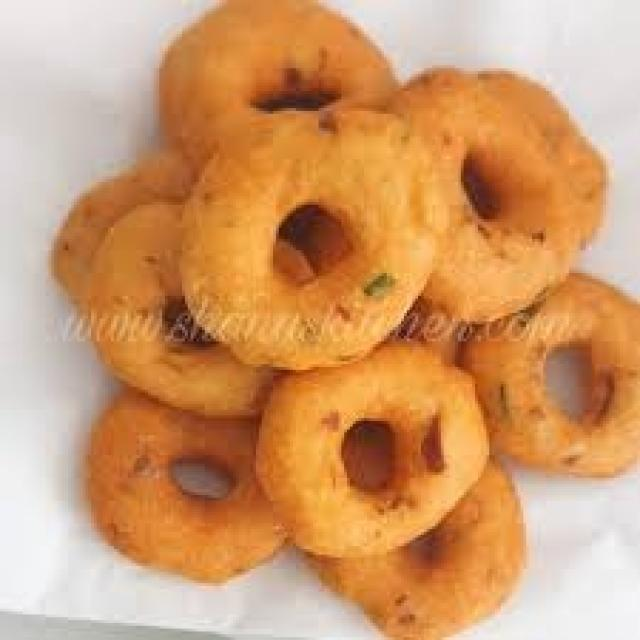medu vadai: (188, 114, 441, 365), (380, 67, 604, 321), (66, 170, 275, 417), (163, 4, 389, 166), (90, 393, 283, 579), (467, 118, 579, 245)
